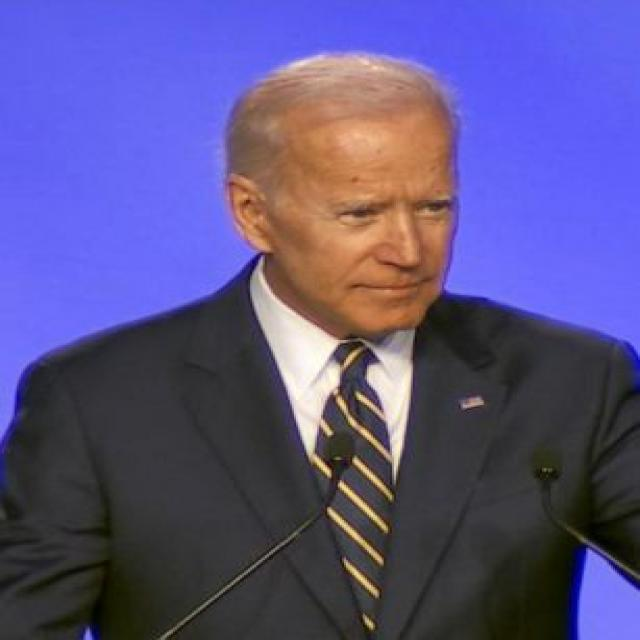human: (6, 54, 640, 640)
